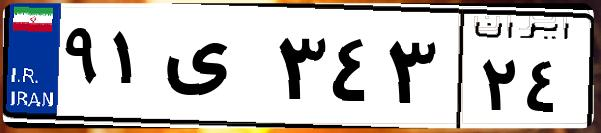1: (110, 28, 158, 98)
2: (475, 38, 525, 113)
3: (270, 28, 330, 110), (385, 28, 445, 110)
4: (330, 28, 385, 110), (525, 38, 570, 115)
9: (57, 26, 110, 100)
ی: (158, 20, 270, 120)
